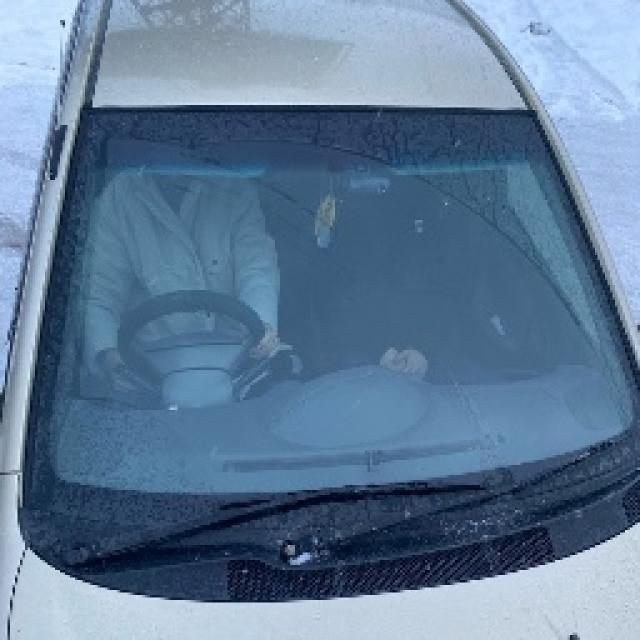windshield: (1, 99, 634, 599)
